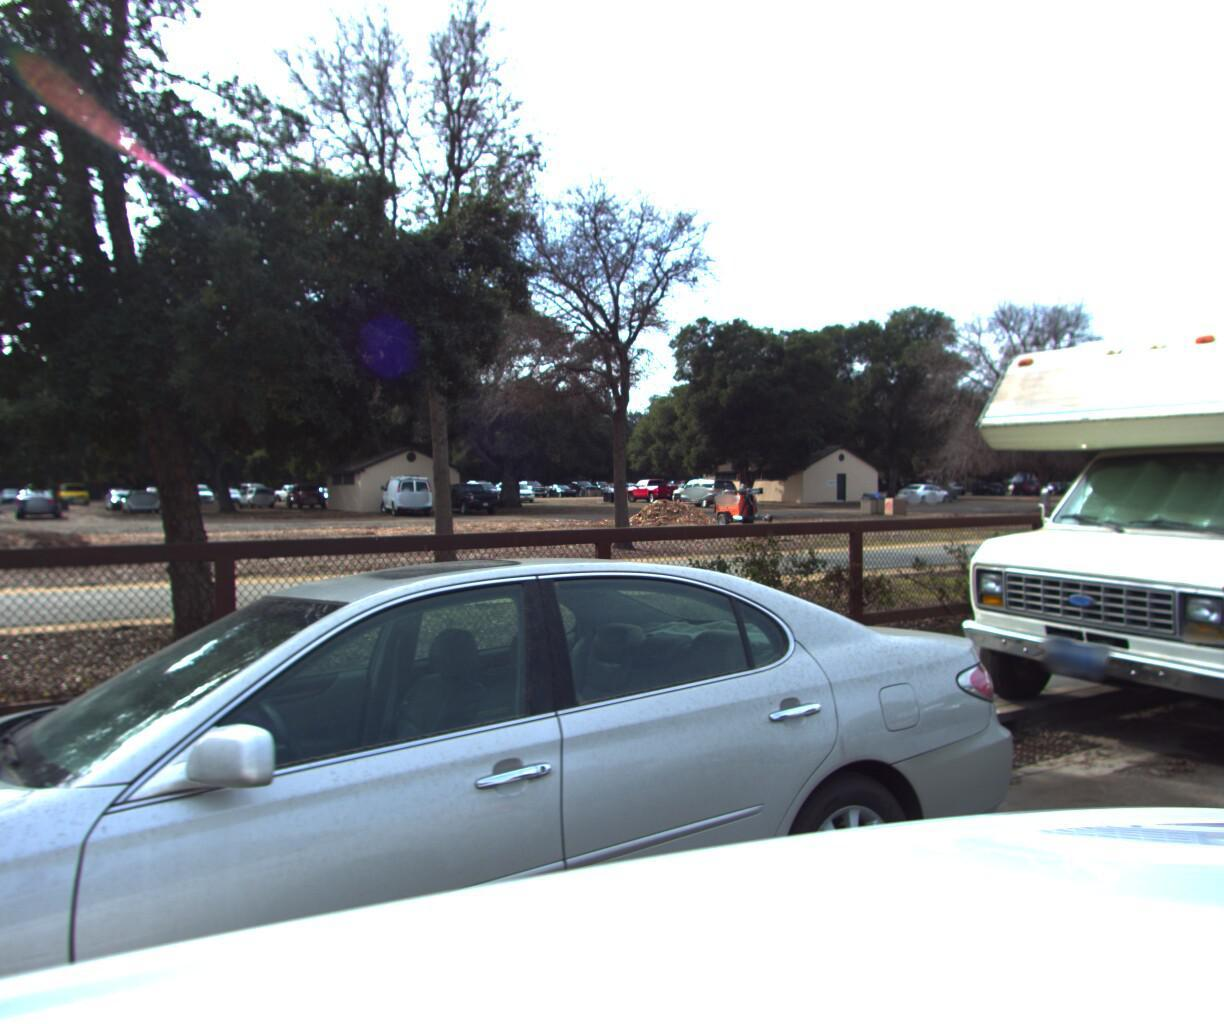car: (0, 520, 1070, 1024)
other_vehicle: (897, 227, 1224, 845)
